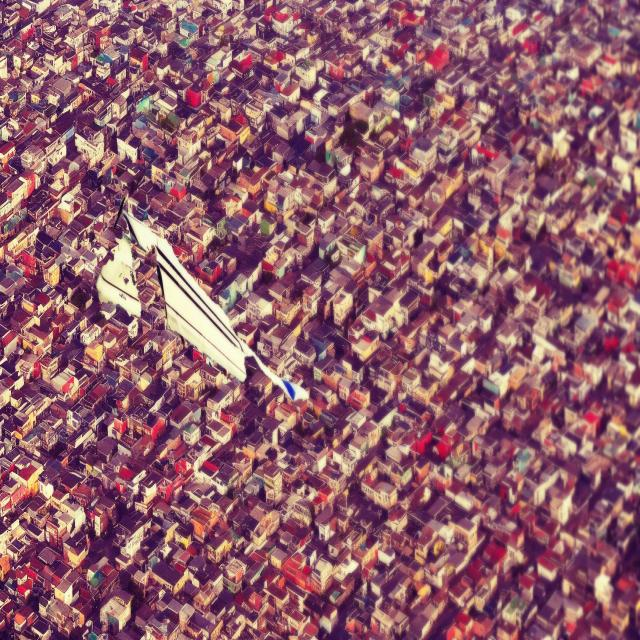airplane: (113, 196, 309, 405)
